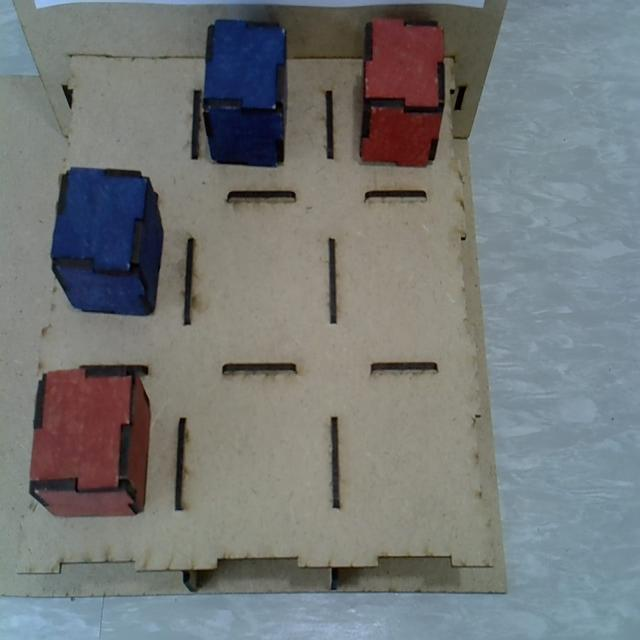blue_box: (50, 163, 164, 320), (203, 21, 291, 166)
red_box: (33, 366, 151, 518), (362, 15, 444, 166)
